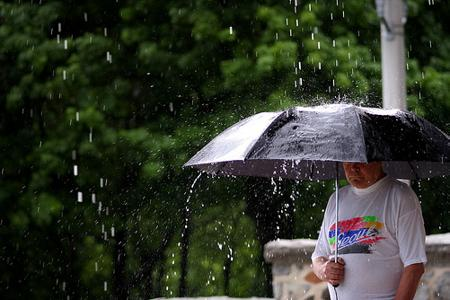person: (313, 161, 428, 300)
